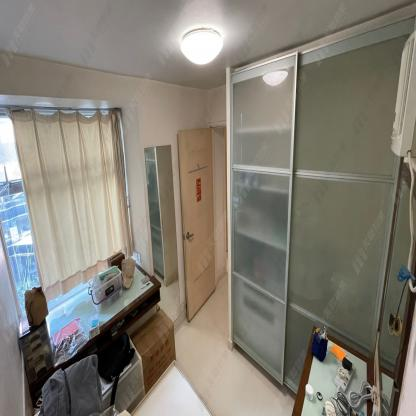Closet: (225, 4, 416, 397)
Door: (178, 127, 215, 323)
